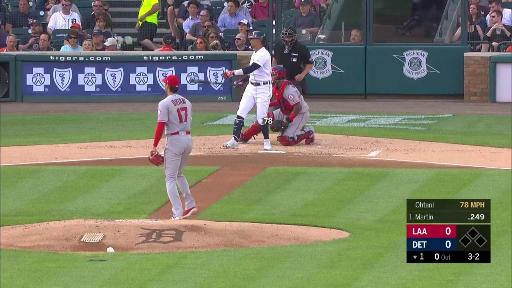pitcher: (148, 74, 198, 221)
